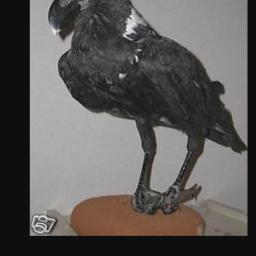Crow: (45, 0, 246, 216)
